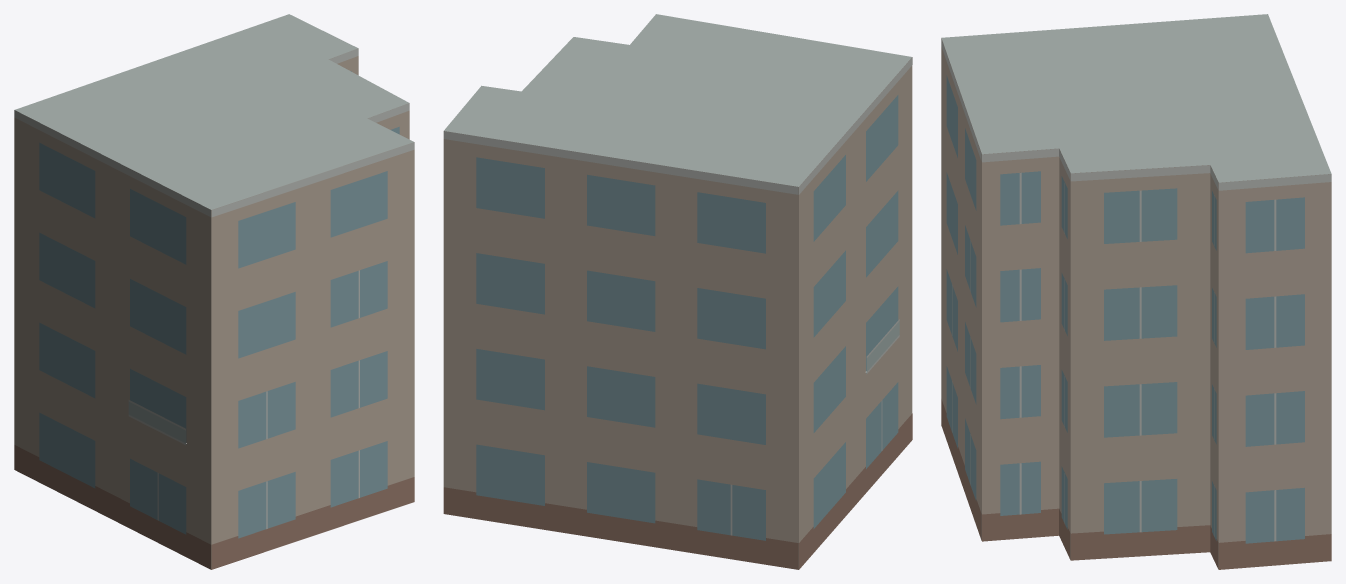
Rendered from survey-upis-32698815.glb.
3 views of the same model, side by side, from view 1: azimuth 30°, elevation 25°; view 2: azimuth 150°, elevation 25°; view 3: azimuth 270°, elevation 25° (orthographic). The views are drawn at different scales.
Visible parts, largest first — view 1: survey-upis-32698815.tmp; view 2: survey-upis-32698815.tmp; view 3: survey-upis-32698815.tmp.
Boxes of the visible parts, x1=… form: survey-upis-32698815.tmp: x1=14, y1=14, x2=414, y2=569; survey-upis-32698815.tmp: x1=443, y1=14, x2=912, y2=569; survey-upis-32698815.tmp: x1=941, y1=14, x2=1331, y2=569.
Size of the model in its own units: 10.85 by 11.6 by 10.61.
